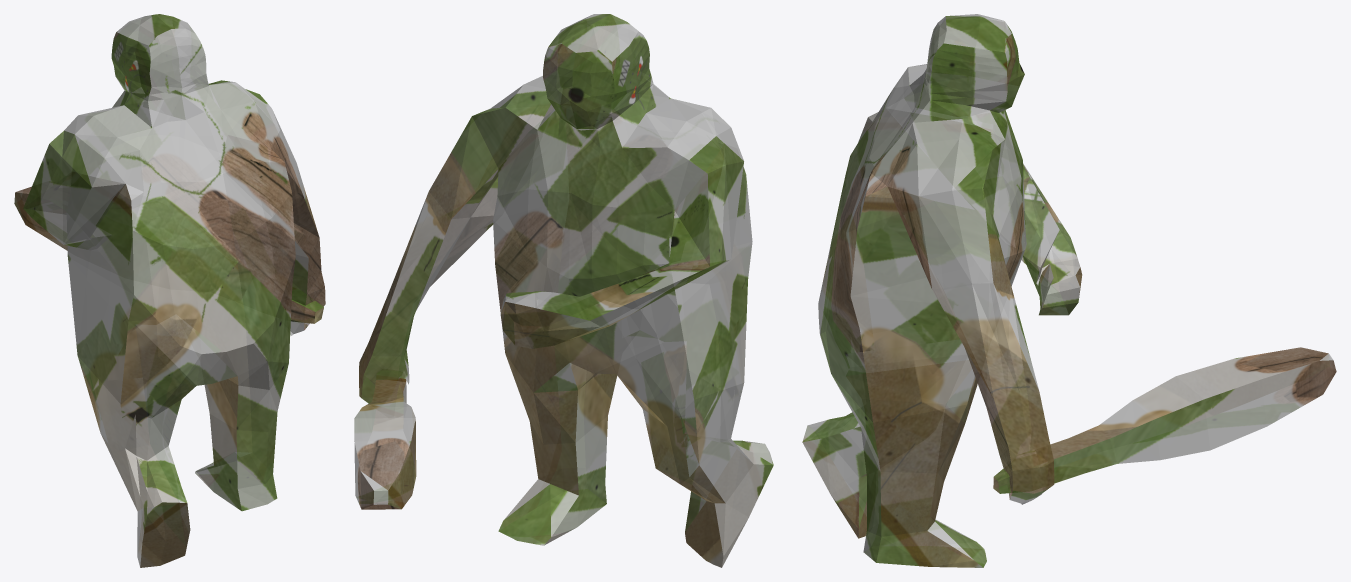
Rendered from Enemigo222.obj.
The picture shows the model from 3 angles, left to right: view 1: azimuth 30°, elevation 25°; view 2: azimuth 150°, elevation 25°; view 3: azimuth 270°, elevation 25°; orthographic projection. The views are drawn at different scales.
Parts seen in each view (by area): view 1: Cube; view 2: Cube; view 3: Cube.
Boxes of the visible parts, <box> form: Cube: <box>14,14,325,567</box>; Cube: <box>354,14,773,567</box>; Cube: <box>802,14,1336,567</box>.
Bounding box in the file's own units: 1.79 × 2.82 × 2.51.
